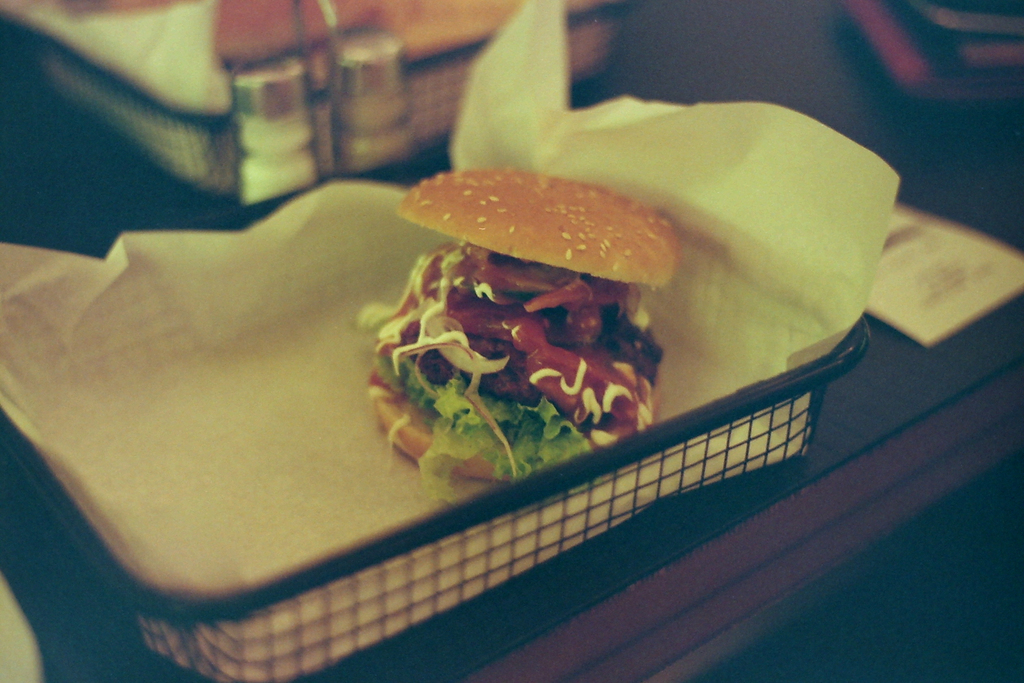Hamburger: (360, 161, 702, 483)
